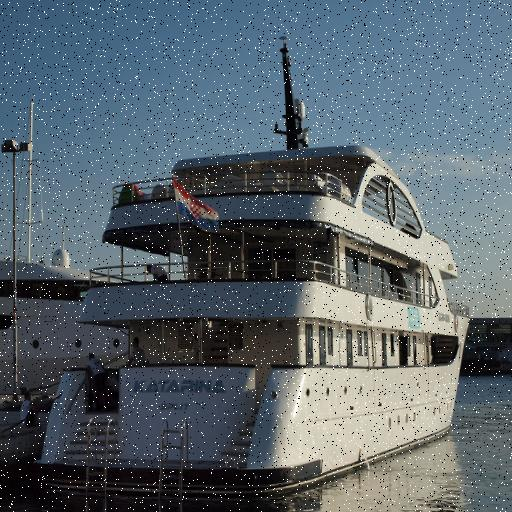cruises: (32, 30, 474, 512)
